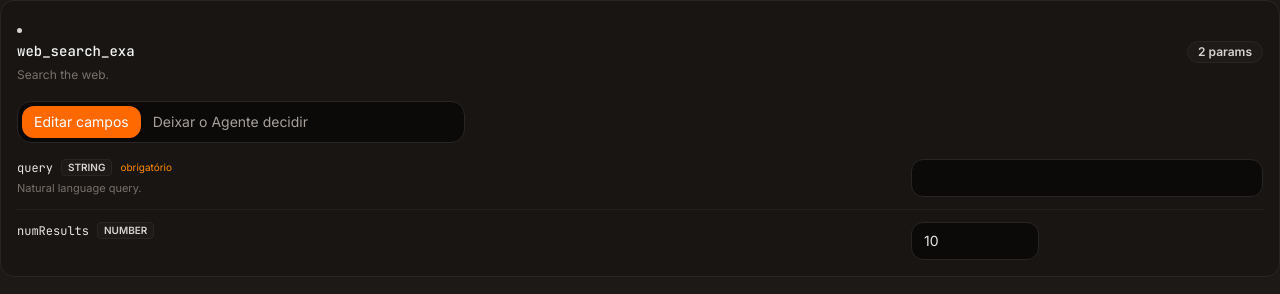
McpToolConfigurationCard › disables parameter fields when agent decides input
This screenshot has width=1280, height=294.
Expected: the field named "query" is enabled, x1=911 y1=159 x2=1263 y2=197
Click the radio button labelled "Deixar o Agente decidir" at (230, 122), box x1=141 y1=106 x2=320 y2=138
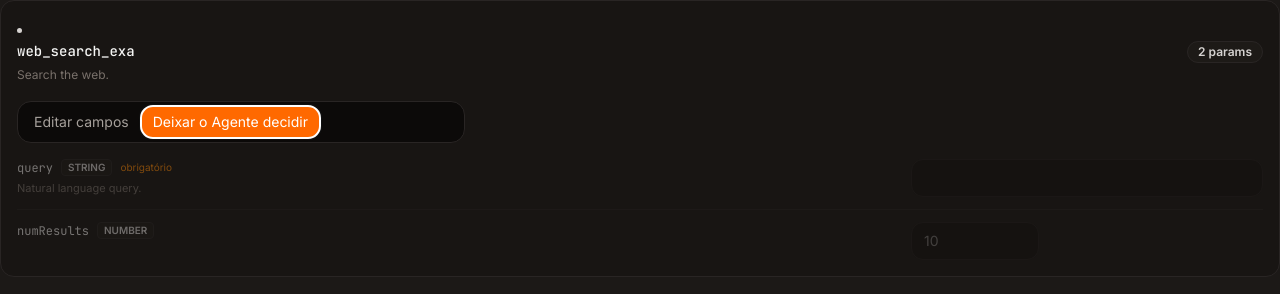
Result: the number field named "numResults" is disabled at x1=911 y1=222 x2=1039 y2=260
